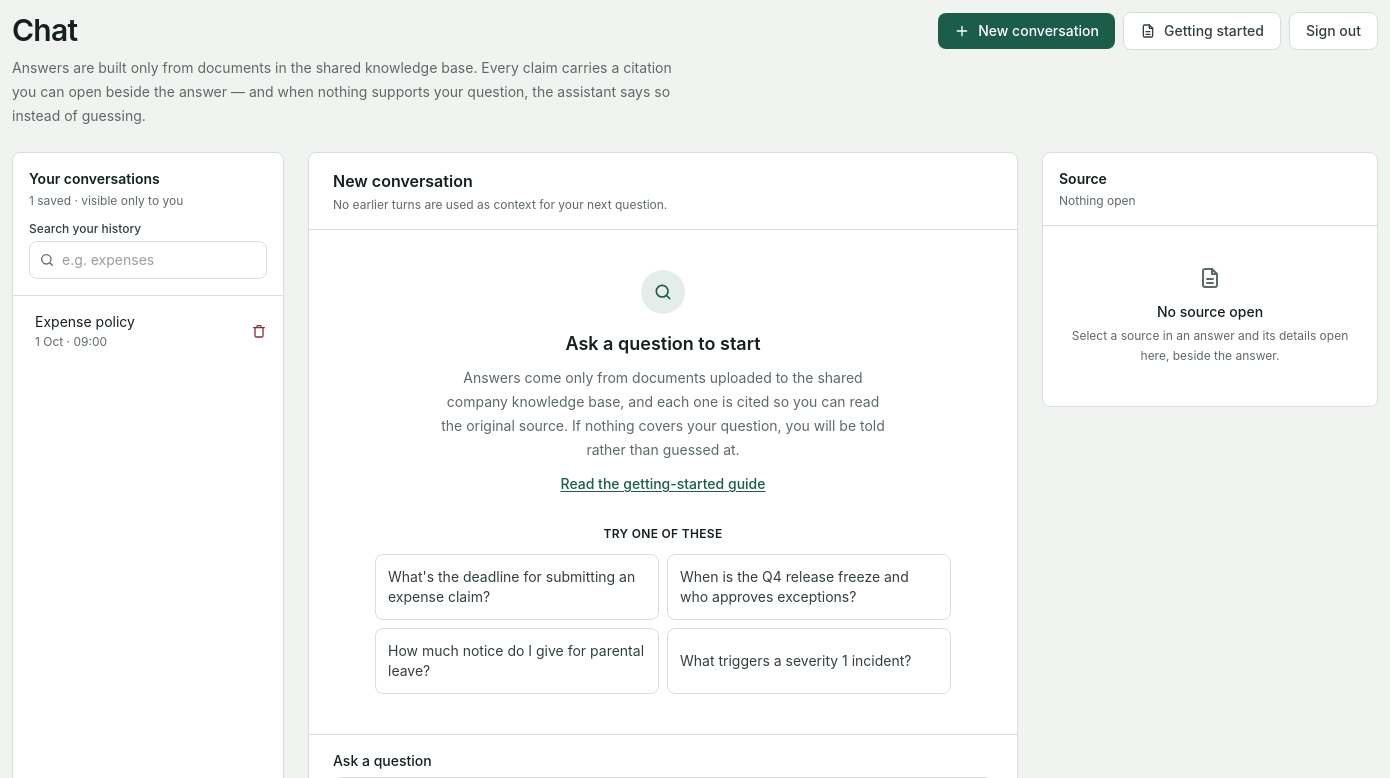
Test: Chat screen › shows a 'conversation not found' state and no content on a 404 from GET /conversations/{id}
Click the text "Expense policy" at [85, 322], box [35,313,135,330]
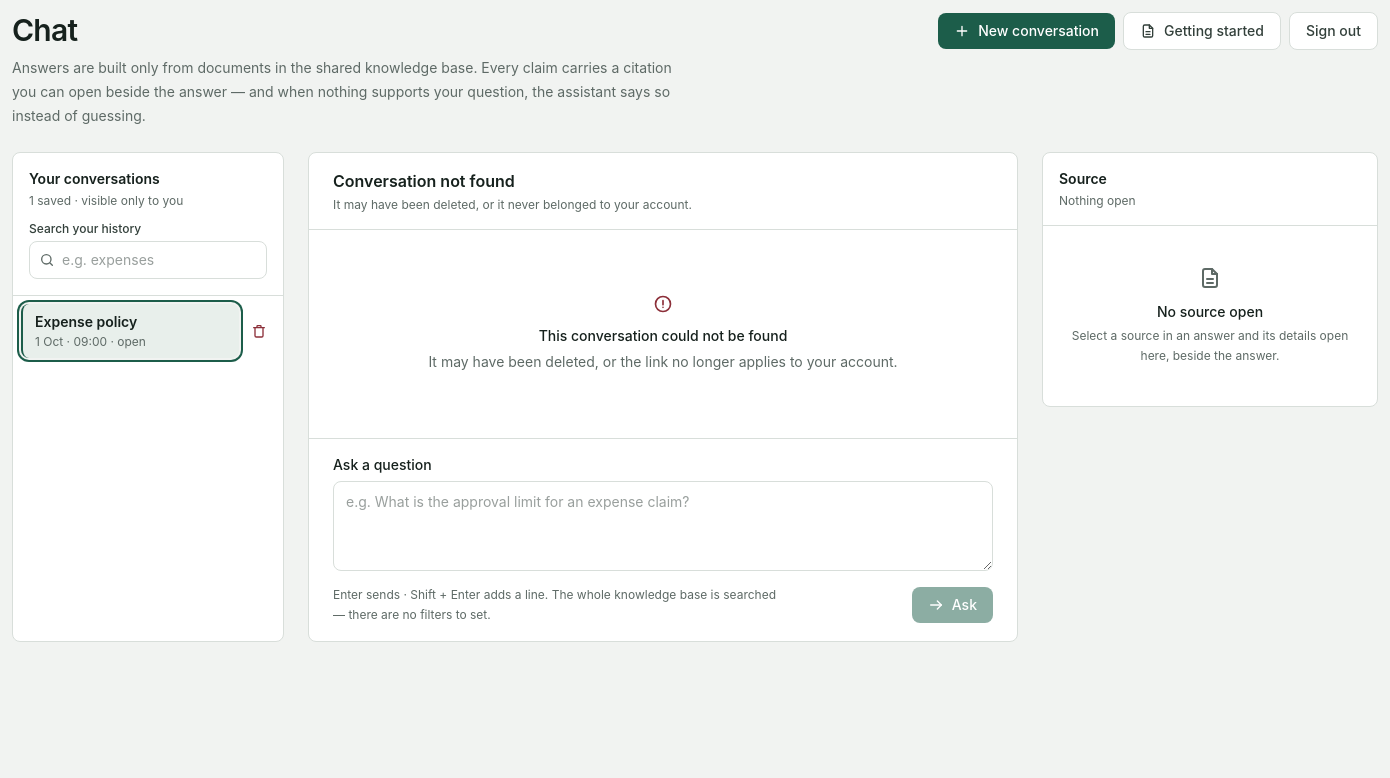
Result: the text "This conversation could not be found" is shown at [539,327,787,344]
